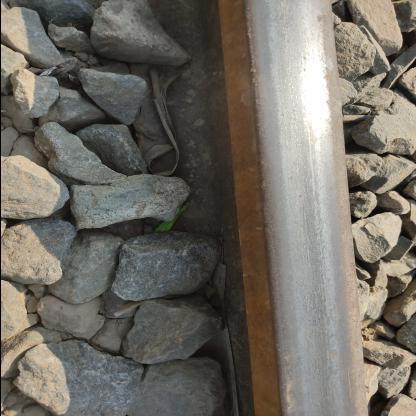Non Defective: (119, 4, 374, 414)
